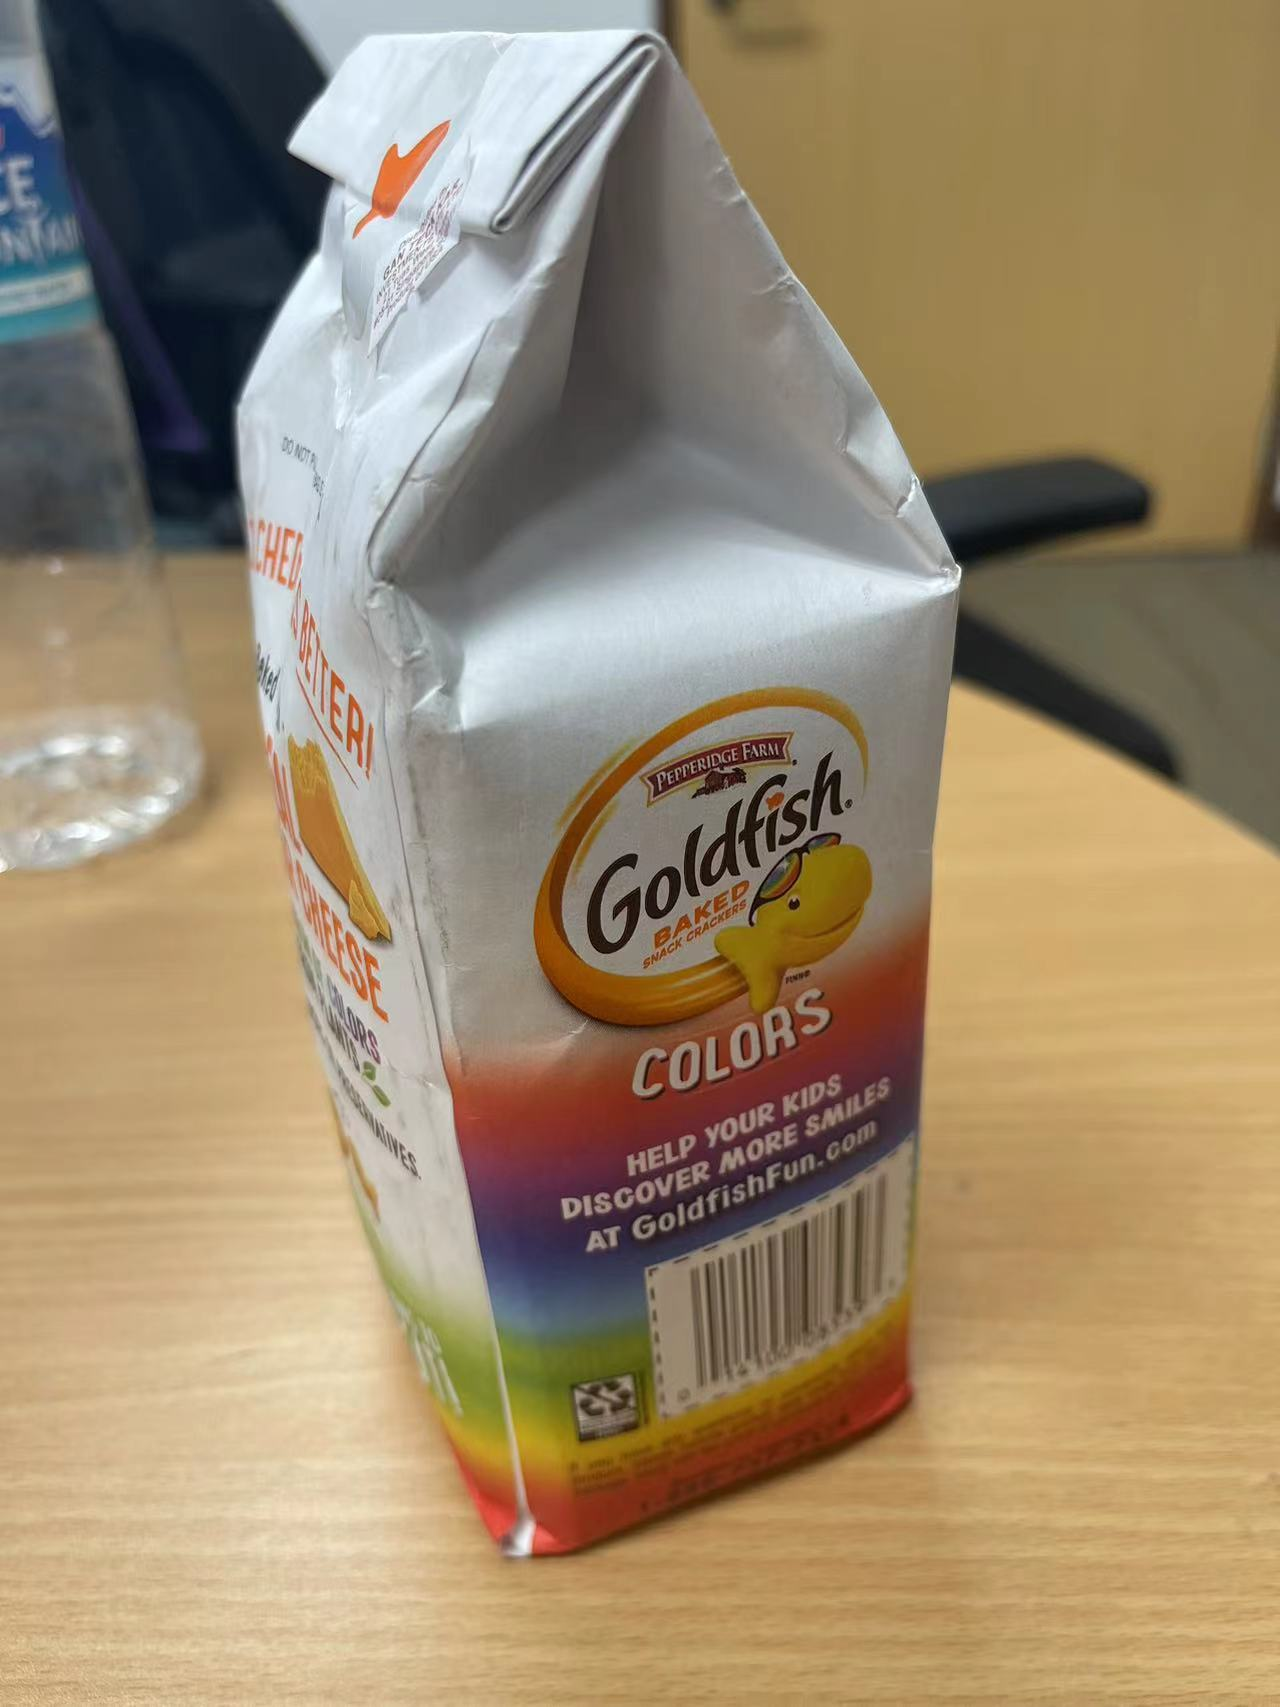Crackers_100-199g_NonHalal_NonHealthy: (237, 13, 932, 1536)
